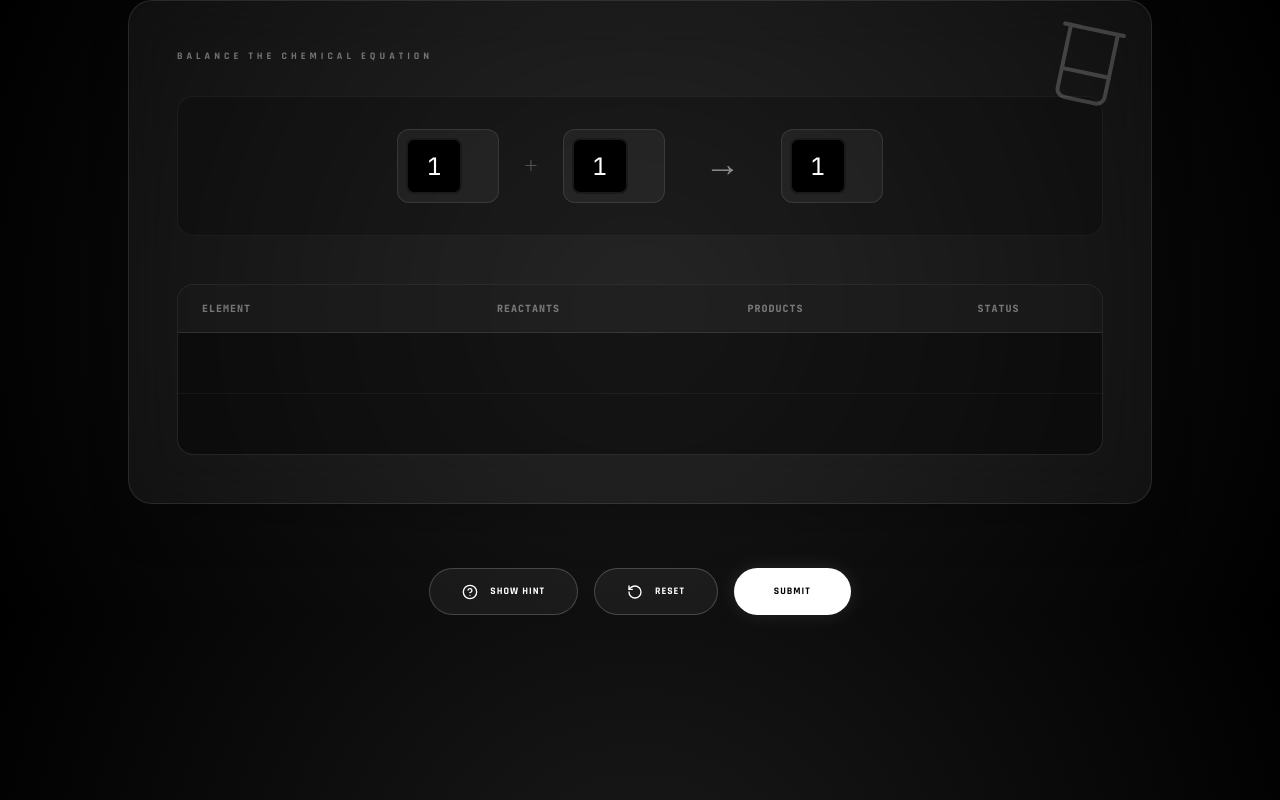
EquationBalancer Component › resets coefficients when reset button is clicked
This screenshot has width=1280, height=800.
Note: Change a coefficient
Replace the text in the 1st field with "5" at (434, 166), box [406,138,462,194]
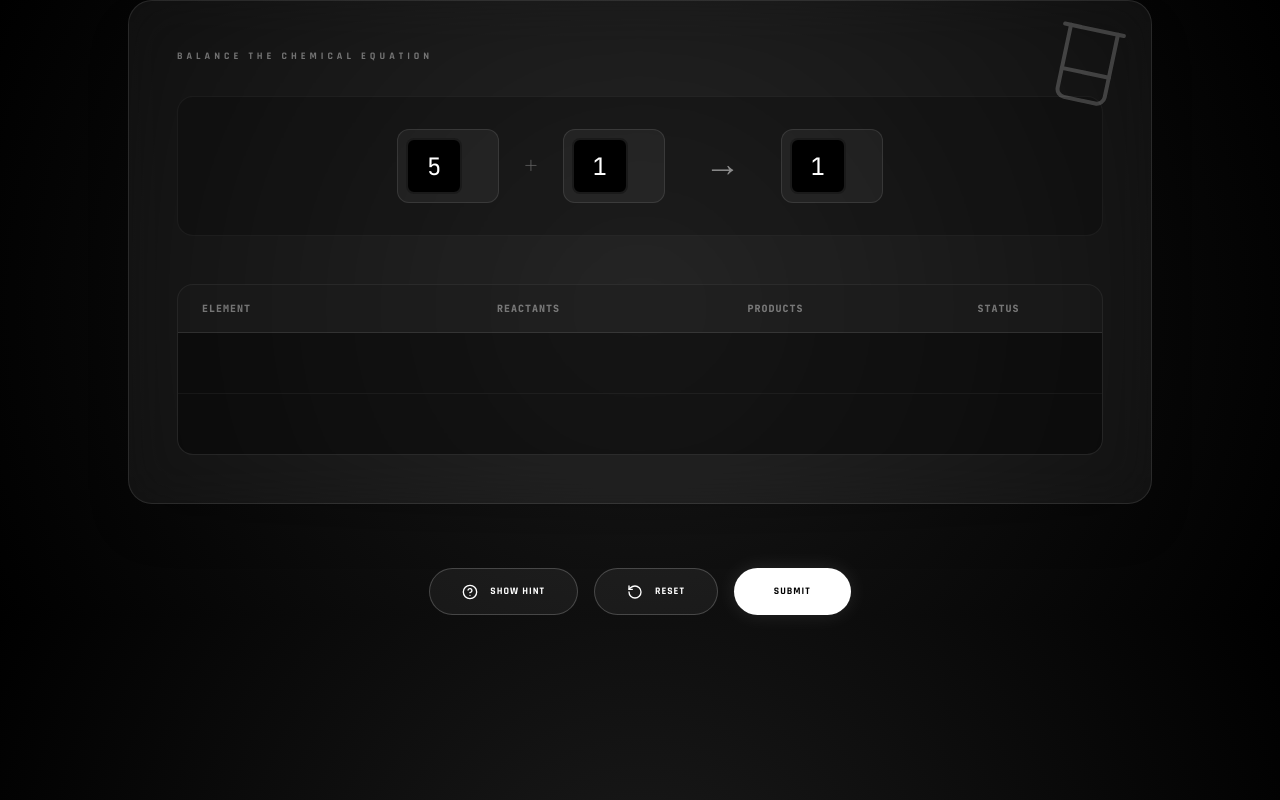
Note: Click reset button
Click the button "Reset" at (656, 592), box [594,568,718,615]
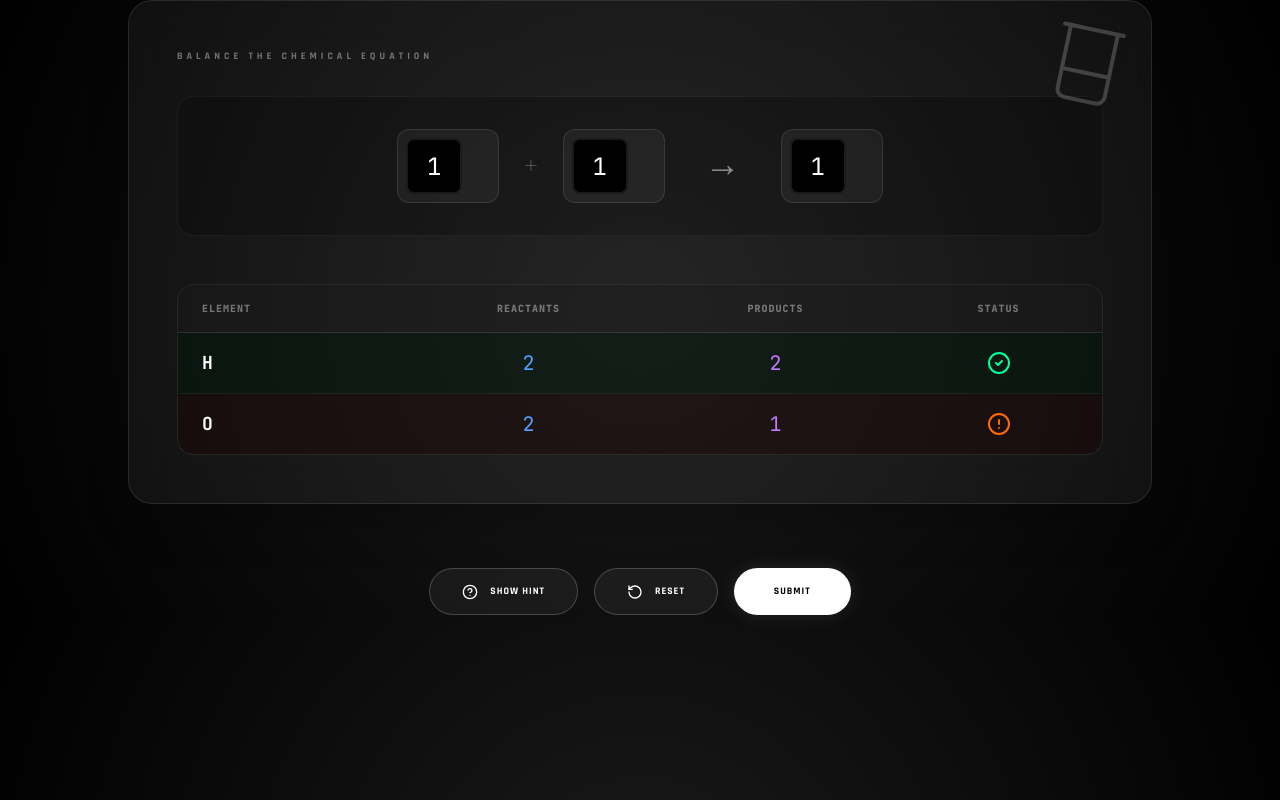
Now the 1st field holds "1", box [406,138,462,194]
